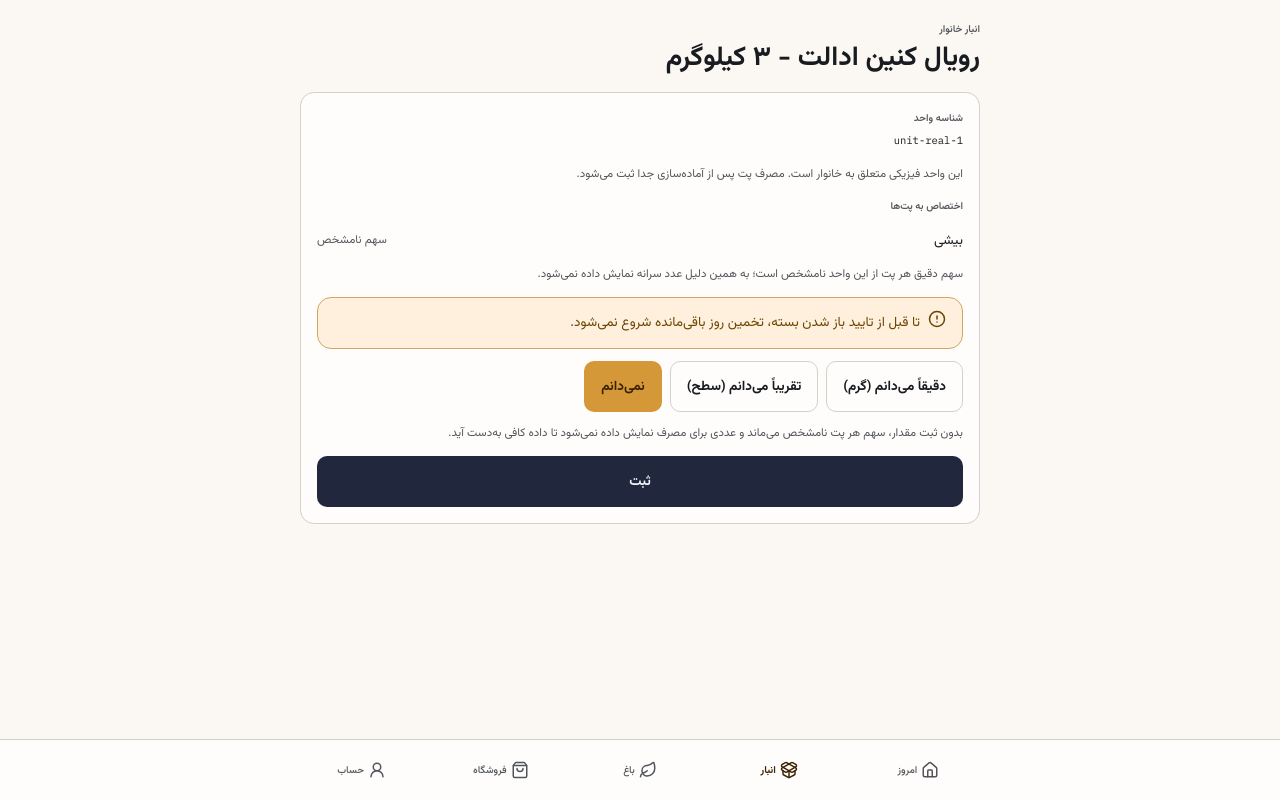
Test: InventoryOpening › submits an unknown-share opening when no amount is provided
The image size is (1280, 800).
Expected: the text "unit-real-1" is shown, [894,132,963,148]
Click the button "ثبت" at x=640, y=482, box [317,456,963,507]
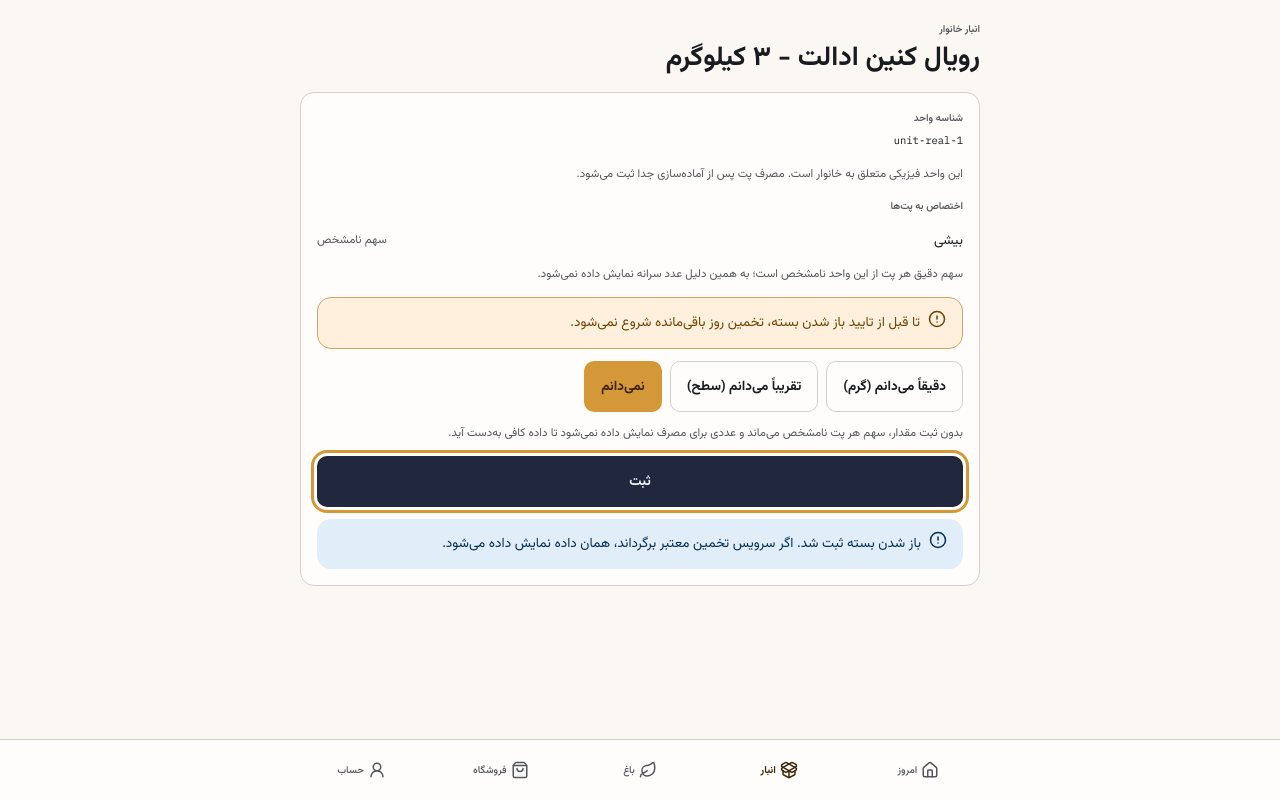
Expected: the text "باز شدن بسته ثبت شد" is shown, [442,533,921,554]
